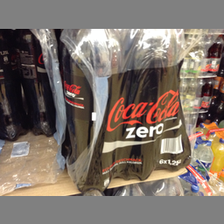soda: (62, 30, 126, 192), (16, 29, 59, 138)
